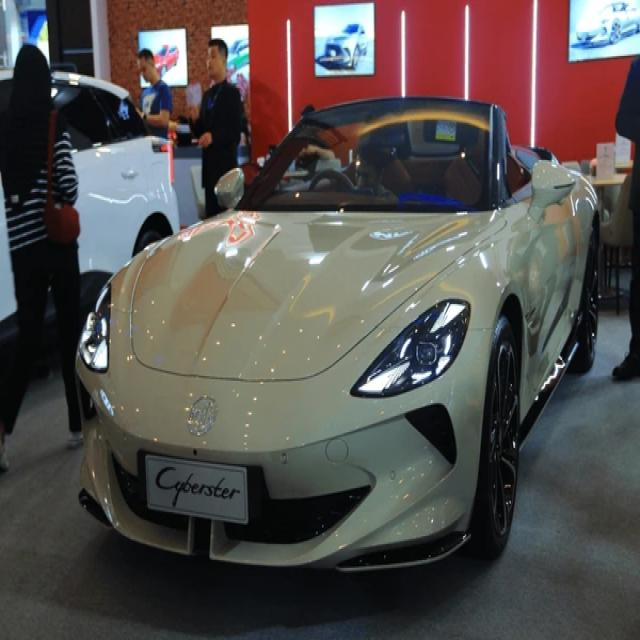mg: (181, 391, 222, 440)
